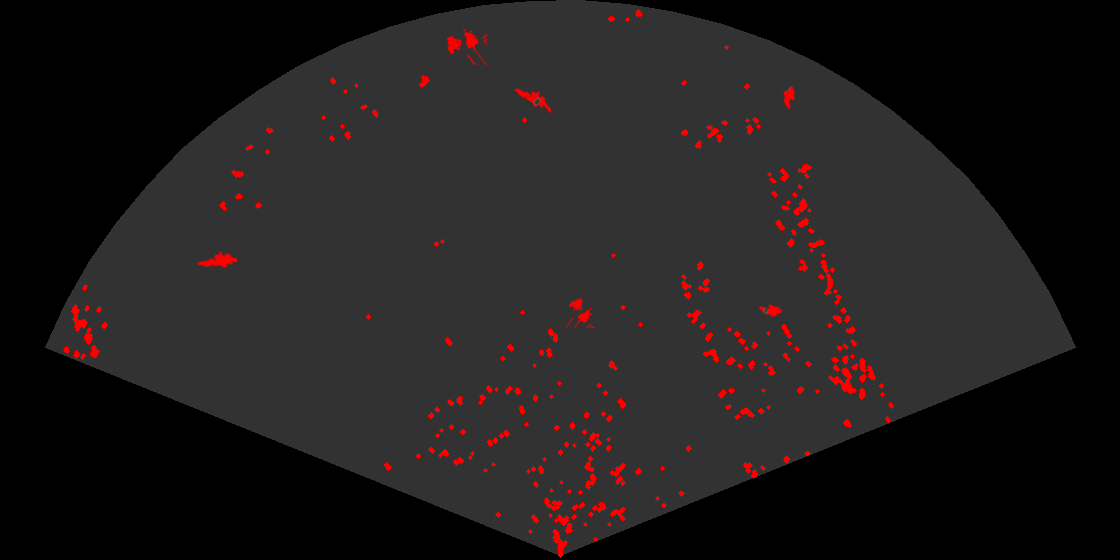AUV: (757, 303, 784, 319), (782, 84, 797, 111)
cage: (445, 27, 487, 65), (564, 296, 597, 328)
frogman: (513, 87, 551, 115), (196, 250, 237, 269)
